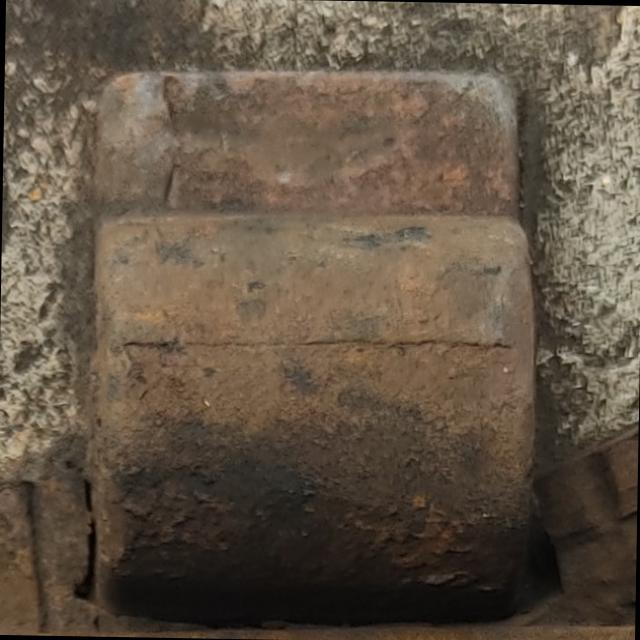track_bolt_missing: (76, 194, 551, 634)
